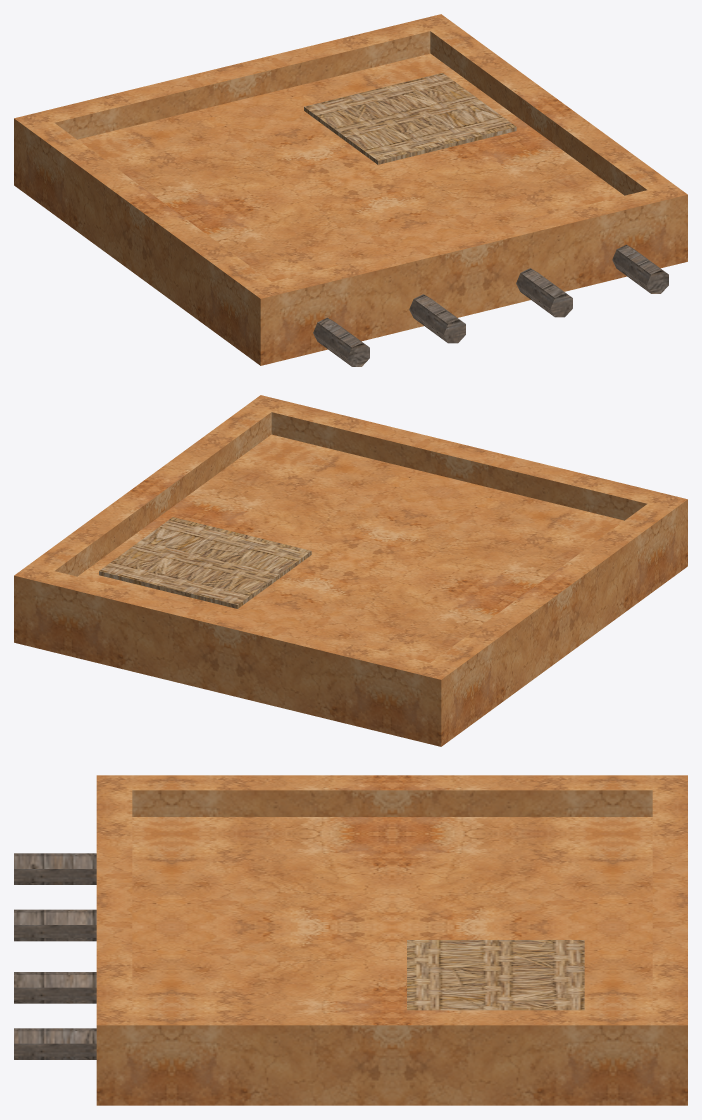
The model's file is roof_flat_r2.glb.
3 views of the same model, one above another, from view 1: azimuth 30°, elevation 25°; view 2: azimuth 150°, elevation 25°; view 3: azimuth 270°, elevation 25° (orthographic). The views are drawn at different scales.
Size of the model in its own units: 2 by 0.3 by 2.28.
3 materials, 3 textured.
